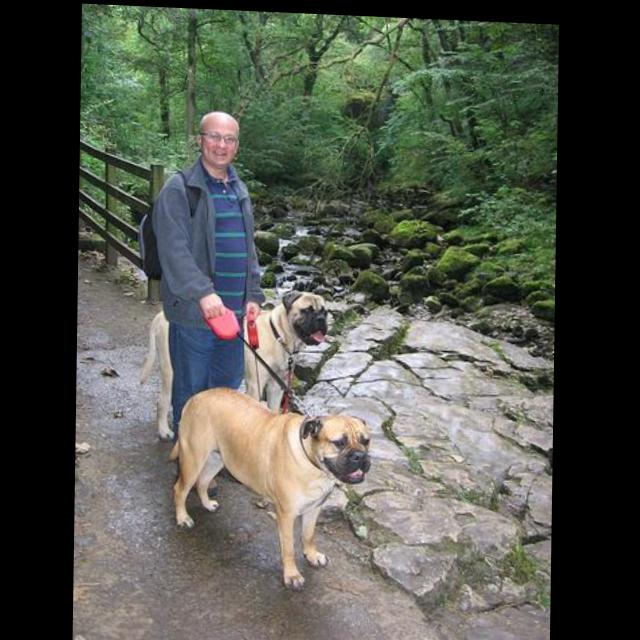bullmastiff: (168, 383, 373, 592), (138, 281, 330, 445)
face: (199, 110, 244, 167)
person: (148, 107, 269, 498)
